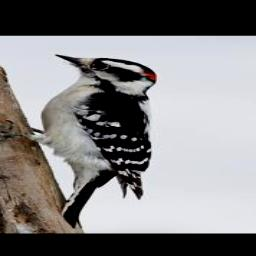Woodpecker: (0, 51, 161, 229)
